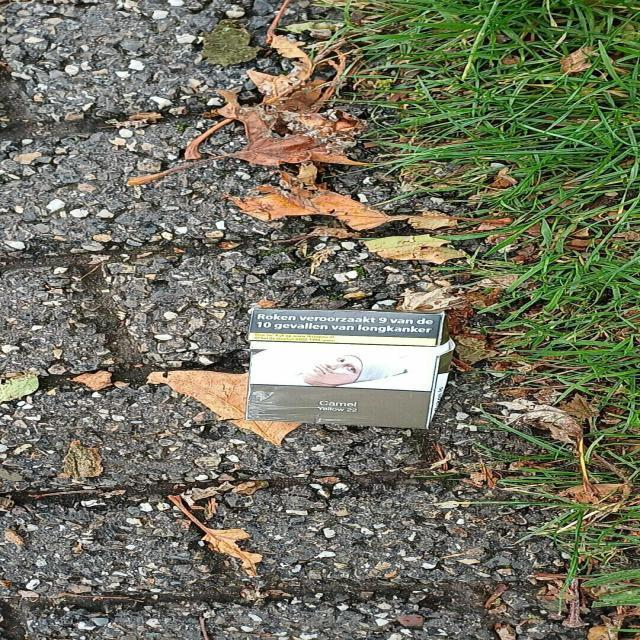Paper: (241, 308, 457, 430)
